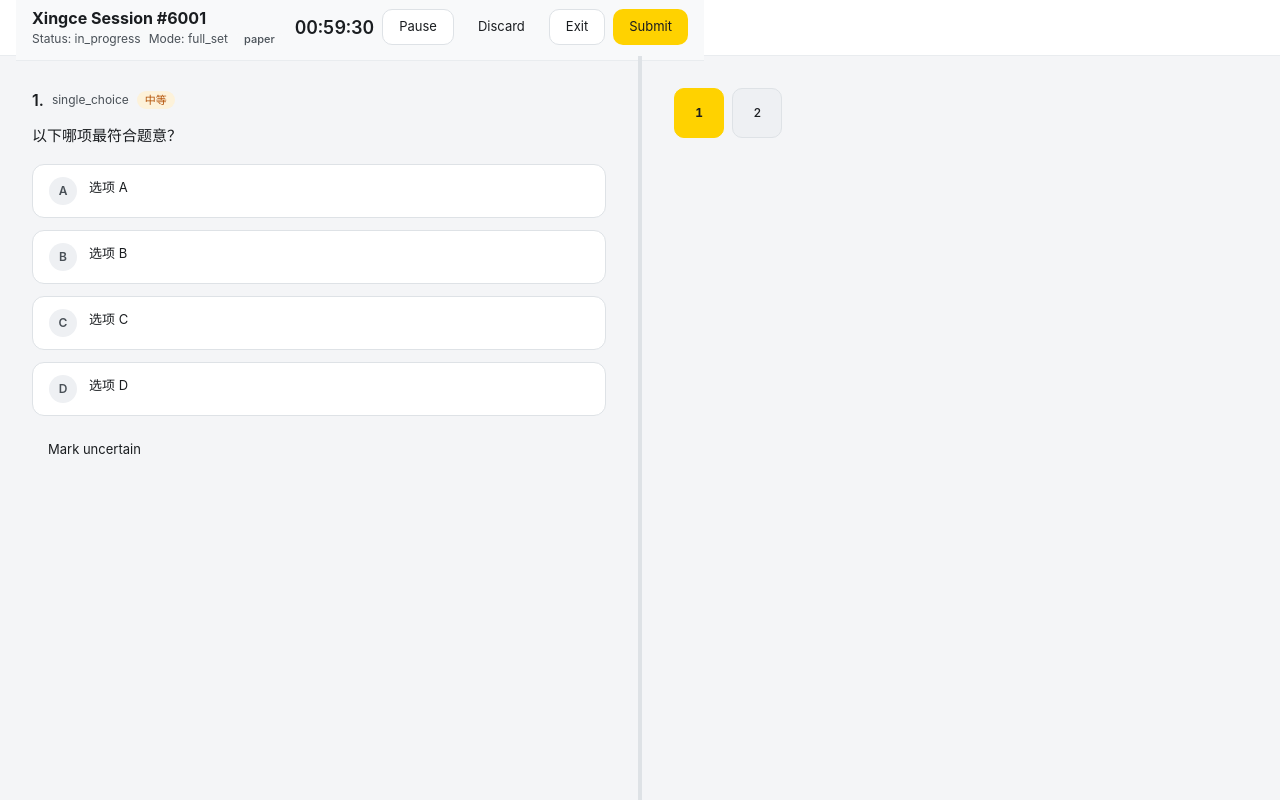
Test: PracticeSession › toggles pause and resume through lifecycle controls
The width and height of the screenshot is (1280, 800).
Click the button "Pause" at (418, 27), box [382,9,454,45]
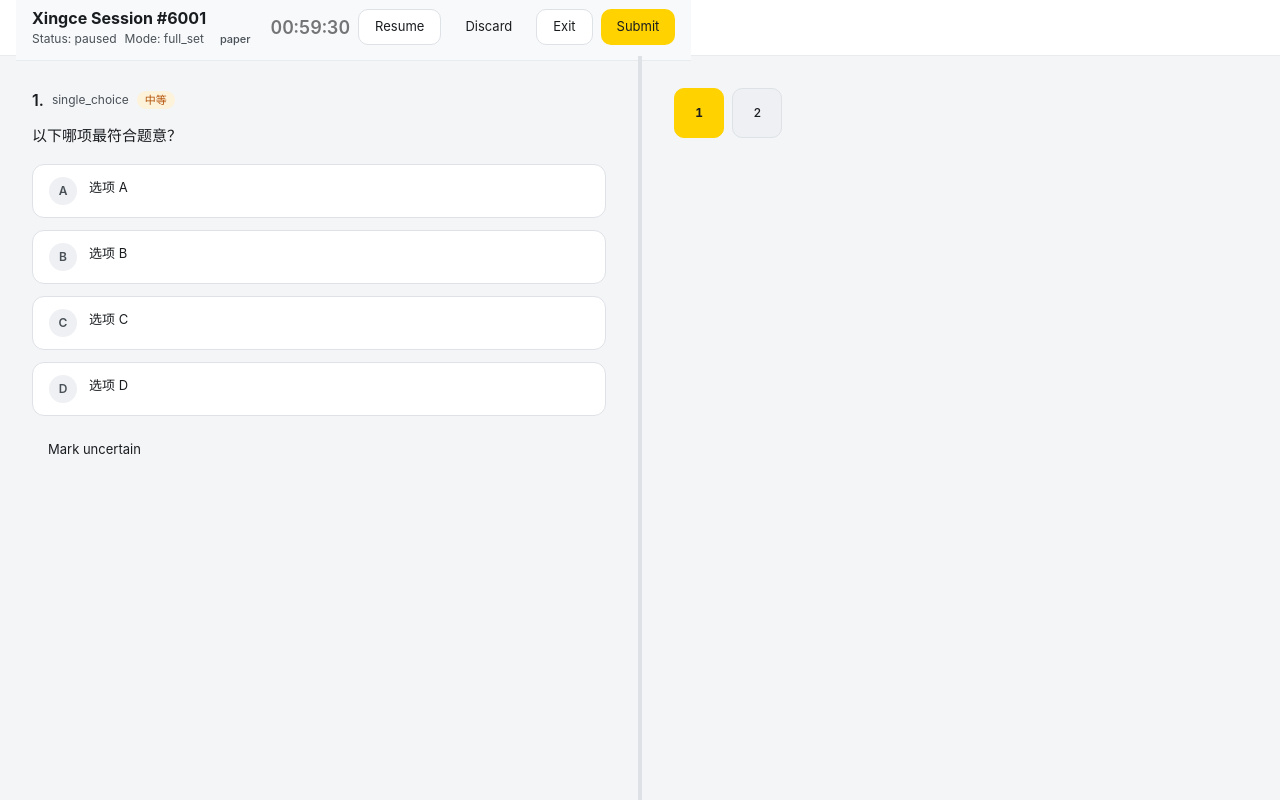
Expected: the button "Resume" is shown, [358,9,441,45]
